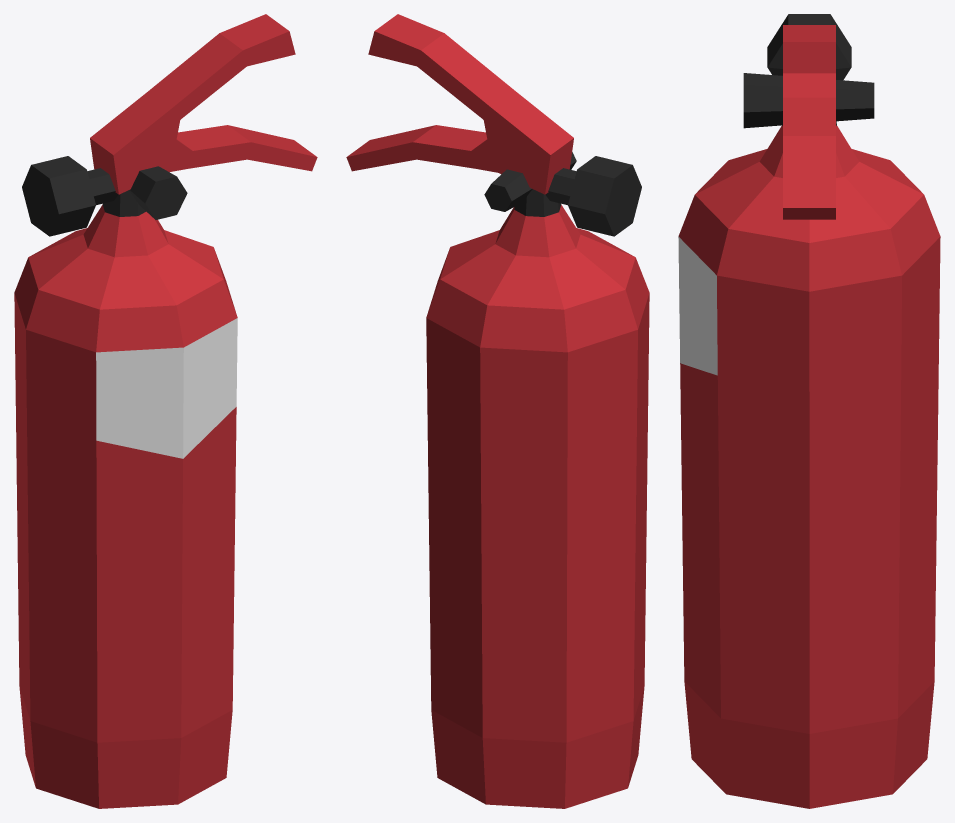
The model's file is survival-fire-extinguisher.glb.
3 views of the same model, side by side, from view 1: azimuth 30°, elevation 25°; view 2: azimuth 150°, elevation 25°; view 3: azimuth 270°, elevation 25° (orthographic). The views are drawn at different scales.
Visible parts, largest first — view 1: fire-extinguisher; view 2: fire-extinguisher; view 3: fire-extinguisher.
Part boxes in pixels (x1,y1,x2,y2): fire-extinguisher: [14, 14, 317, 808]; fire-extinguisher: [346, 14, 649, 808]; fire-extinguisher: [678, 14, 940, 808].
Size of the model in its own units: 0.2233 by 0.5481 by 0.1598.
